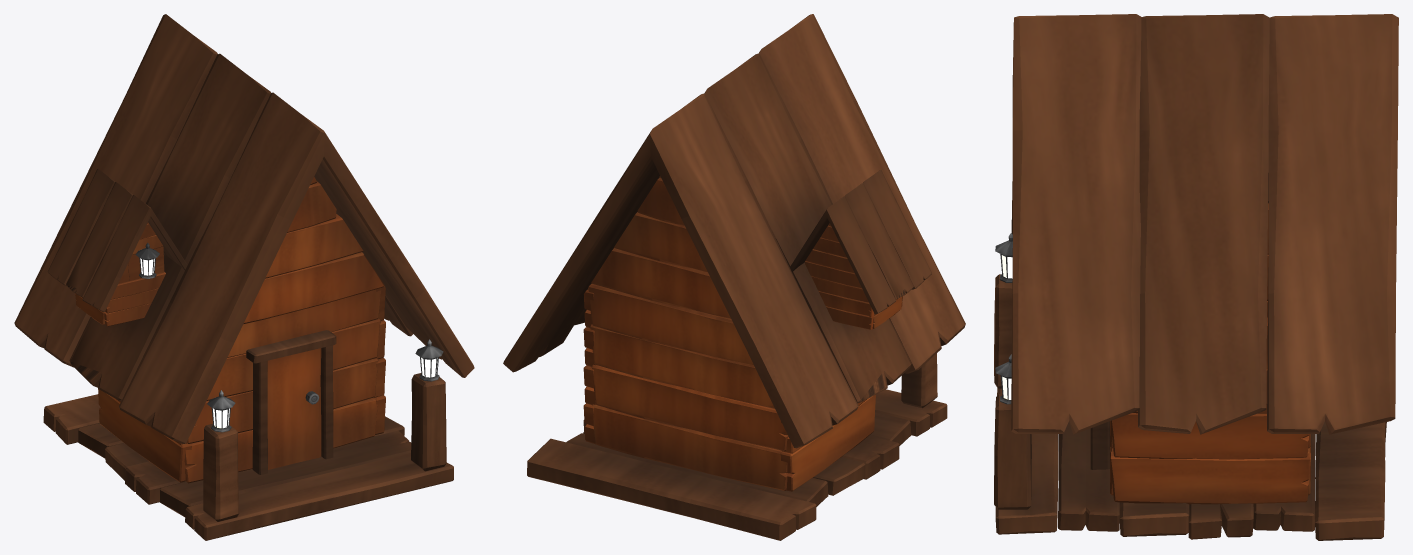
File: PA_Houseset1_House4_CROP.fbx
3 views of the same model, side by side, from view 1: azimuth 30°, elevation 25°; view 2: azimuth 150°, elevation 25°; view 3: azimuth 270°, elevation 25° (orthographic). The views are drawn at different scales.
Parts seen in each view (by area): view 1: PA_Houseset1_House4.005, PA_Houseset1_House4.079, PA_Houseset1_House4.041, PA_Houseset1_House4.004, PA_Houseset1_House4.001, PA_Houseset1_House4.039, PA_Houseset1_House4.006, PA_Houseset1_House4.058, PA_Houseset1_House4.062, PA_Houseset1_House4.057, PA_Houseset1_House4.033, PA_Houseset1_House4.076 (+8 smaller); view 2: PA_Houseset1_House4.004, PA_Houseset1_House4.079, PA_Houseset1_House4.041, PA_Houseset1_House4.005, PA_Houseset1_House4.001, PA_Houseset1_House4.003, PA_Houseset1_House4.054, PA_Houseset1_House4.024, PA_Houseset1_House4.046, PA_Houseset1_House4.008, PA_Houseset1_House4.047, PA_Houseset1_House4.076 (+3 smaller); view 3: PA_Houseset1_House4.003, PA_Houseset1_House4.006, PA_Houseset1_House4.007, PA_Houseset1_House4.079, PA_Houseset1_House4.044, PA_Houseset1_House4.072, PA_Houseset1_House4.032, PA_Houseset1_House4.033, PA_Houseset1_House4.039, PA_Houseset1_House4.035, PA_Houseset1_House4.034.
Part boxes in pixels (left/top/right/bottom): PA_Houseset1_House4.005: left=119, top=92, right=324, bottom=443; PA_Houseset1_House4.079: left=43, top=394, right=453, bottom=540; PA_Houseset1_House4.041: left=69, top=53, right=270, bottom=401; PA_Houseset1_House4.004: left=14, top=14, right=216, bottom=367; PA_Houseset1_House4.001: left=47, top=169, right=187, bottom=326; PA_Houseset1_House4.039: left=246, top=330, right=336, bottom=474; PA_Houseset1_House4.006: left=308, top=119, right=474, bottom=377; PA_Houseset1_House4.058: left=243, top=252, right=384, bottom=323; PA_Houseset1_House4.062: left=227, top=289, right=380, bottom=357; PA_Houseset1_House4.057: left=265, top=214, right=363, bottom=278; PA_Houseset1_House4.033: left=203, top=424, right=239, bottom=521; PA_Houseset1_House4.076: left=98, top=388, right=191, bottom=482; PA_Houseset1_House4.004: left=650, top=93, right=858, bottom=448; PA_Houseset1_House4.079: left=527, top=389, right=947, bottom=540; PA_Houseset1_House4.041: left=705, top=53, right=911, bottom=403; PA_Houseset1_House4.005: left=759, top=14, right=965, bottom=373; PA_Houseset1_House4.001: left=790, top=170, right=931, bottom=329; PA_Houseset1_House4.003: left=503, top=94, right=701, bottom=372; PA_Houseset1_House4.054: left=591, top=364, right=788, bottom=450; PA_Houseset1_House4.024: left=592, top=404, right=787, bottom=490; PA_Houseset1_House4.046: left=590, top=324, right=774, bottom=408; PA_Houseset1_House4.008: left=588, top=284, right=753, bottom=365; PA_Houseset1_House4.047: left=591, top=248, right=730, bottom=318; PA_Houseset1_House4.076: left=780, top=394, right=875, bottom=491; PA_Houseset1_House4.003: left=1267, top=14, right=1398, bottom=434; PA_Houseset1_House4.006: left=1011, top=14, right=1141, bottom=434; PA_Houseset1_House4.007: left=1138, top=14, right=1269, bottom=434; PA_Houseset1_House4.079: left=995, top=388, right=1386, bottom=540; PA_Houseset1_House4.044: left=1110, top=451, right=1310, bottom=504; PA_Houseset1_House4.072: left=1110, top=413, right=1309, bottom=459; PA_Houseset1_House4.032: left=994, top=394, right=1031, bottom=509; PA_Houseset1_House4.033: left=994, top=274, right=1012, bottom=388; PA_Houseset1_House4.039: left=1090, top=421, right=1109, bottom=469; PA_Houseset1_House4.035: left=995, top=233, right=1012, bottom=282; PA_Houseset1_House4.034: left=995, top=354, right=1011, bottom=404.
Size of the model in its own units: 306 by 341 by 277.
